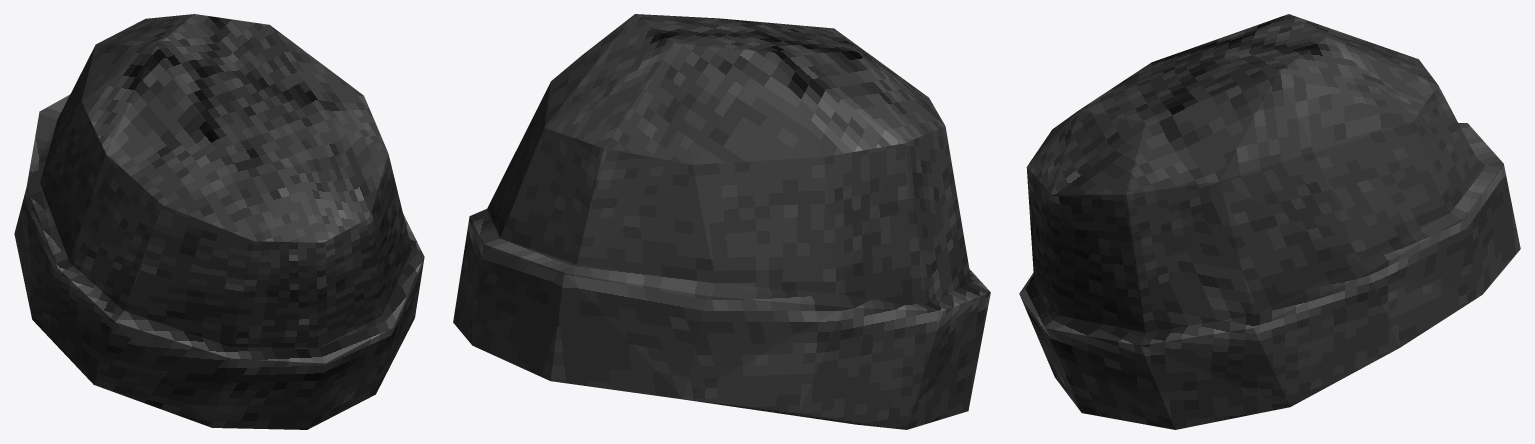
The model's file is recovered_gear_seal_black_hat_9628317e57ab.glb.
3 renders of one model, left to right at view 1: azimuth 30°, elevation 25°; view 2: azimuth 150°, elevation 25°; view 3: azimuth 270°, elevation 25°, orthographic. The views are drawn at different scales.
Parts seen in each view (by area): view 1: seal_black_hat; view 2: seal_black_hat; view 3: seal_black_hat.
Boxes of the visible parts, x1,y1,x2,y2 form: seal_black_hat: [14, 14, 424, 429]; seal_black_hat: [453, 14, 990, 429]; seal_black_hat: [1019, 14, 1520, 429].
Bounding box in the file's own units: 0.2061 × 0.1894 × 0.2482.
1 material, 1 textured.
